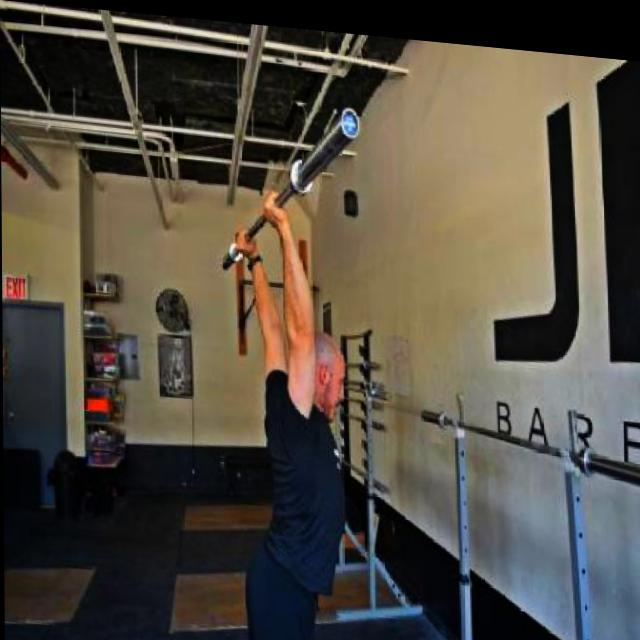barbell: (287, 93, 364, 197)
